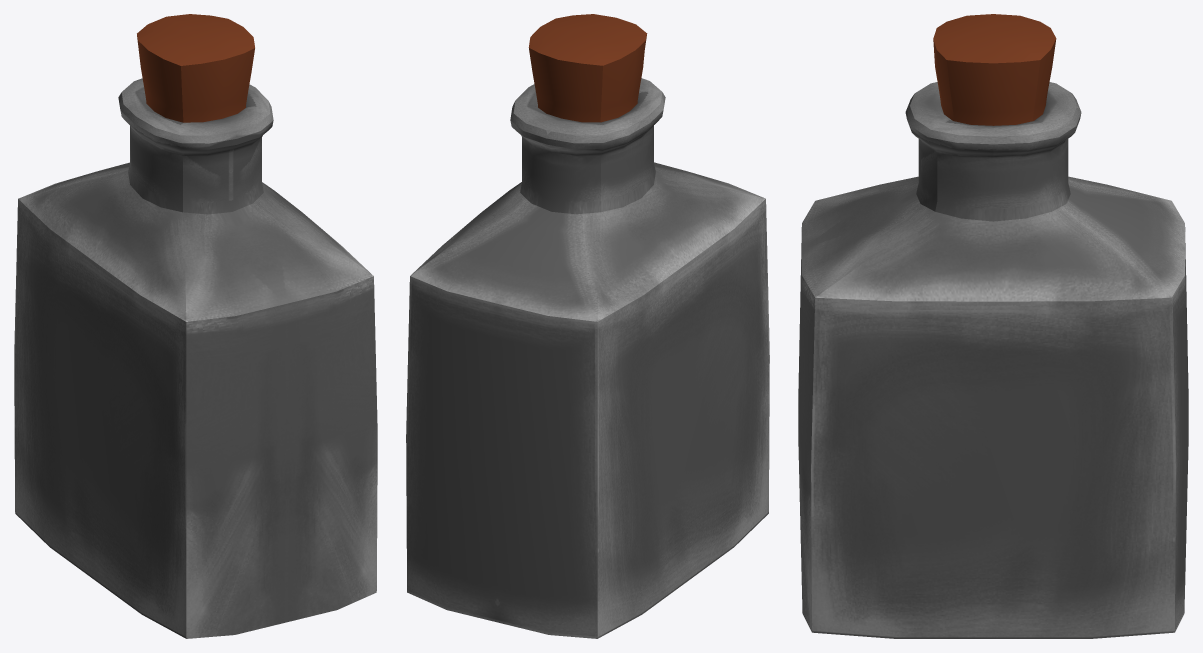
The model's file is potionTest.fbx.
3 views of the same model, side by side, from view 1: azimuth 30°, elevation 25°; view 2: azimuth 150°, elevation 25°; view 3: azimuth 270°, elevation 25° (orthographic). The views are drawn at different scales.
Parts seen in each view (by area): view 1: Potion1.005; view 2: Potion1.005; view 3: Potion1.005.
Boxes of the visible parts, x1,y1,x2,y2 form: Potion1.005: (14,14,377,638); Potion1.005: (406,14,769,638); Potion1.005: (798,14,1188,638).
Size of the model in its own units: 12.78 by 31.47 by 19.91.
3 materials, 1 textured.
